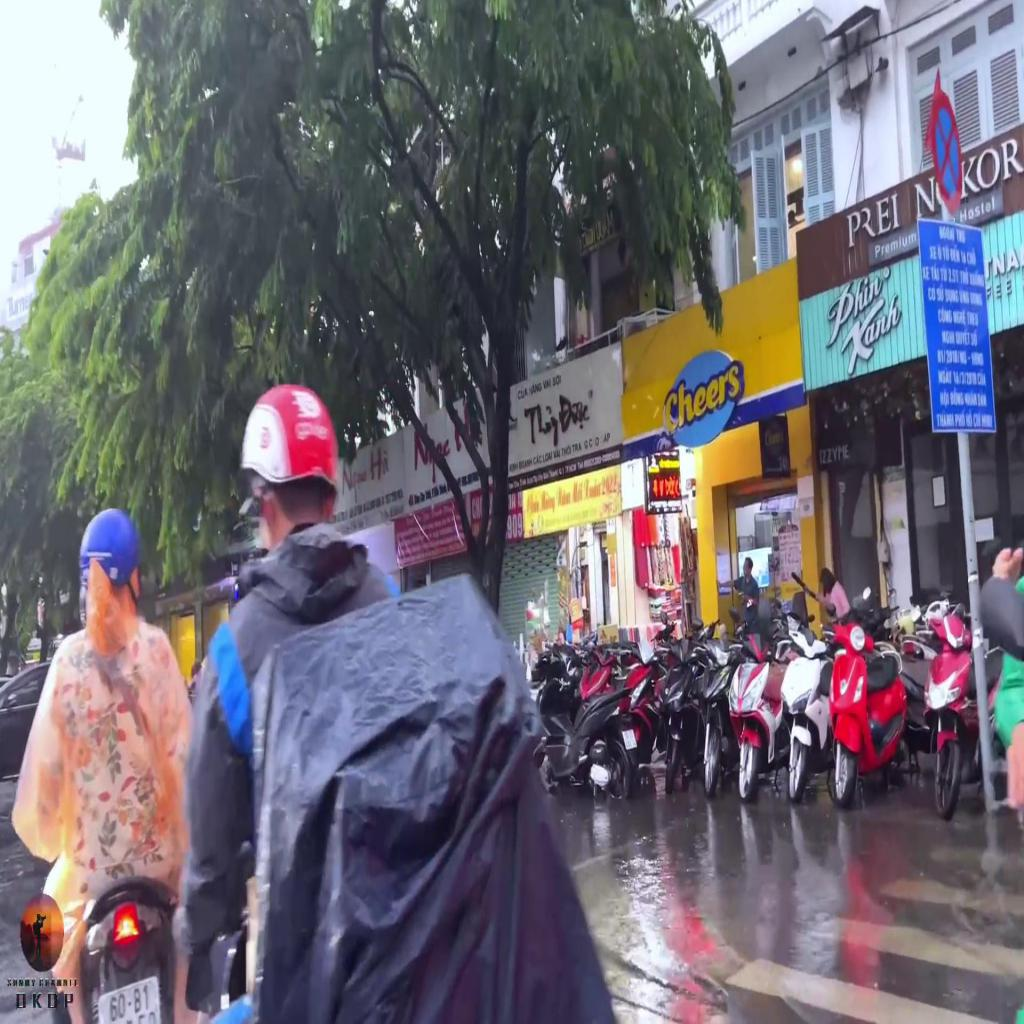cam_dung_xe_va_do_xe: (930, 91, 962, 214)
